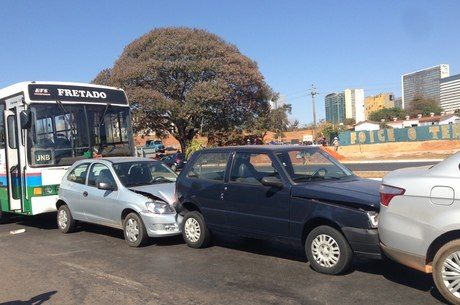Carro: (173, 145, 401, 269), (55, 155, 204, 248), (377, 144, 460, 301), (155, 152, 190, 172)
